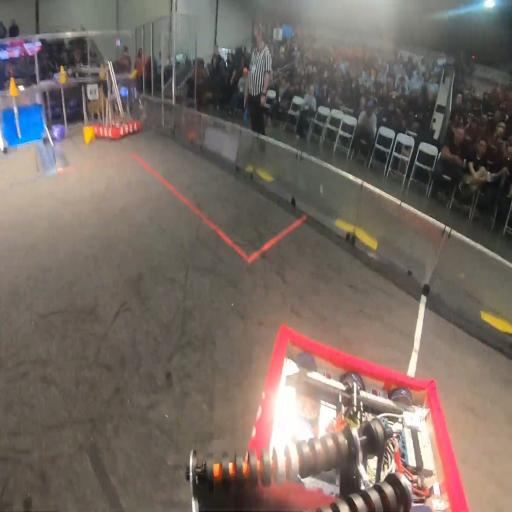robot: (241, 321, 469, 512), (71, 58, 143, 140)
